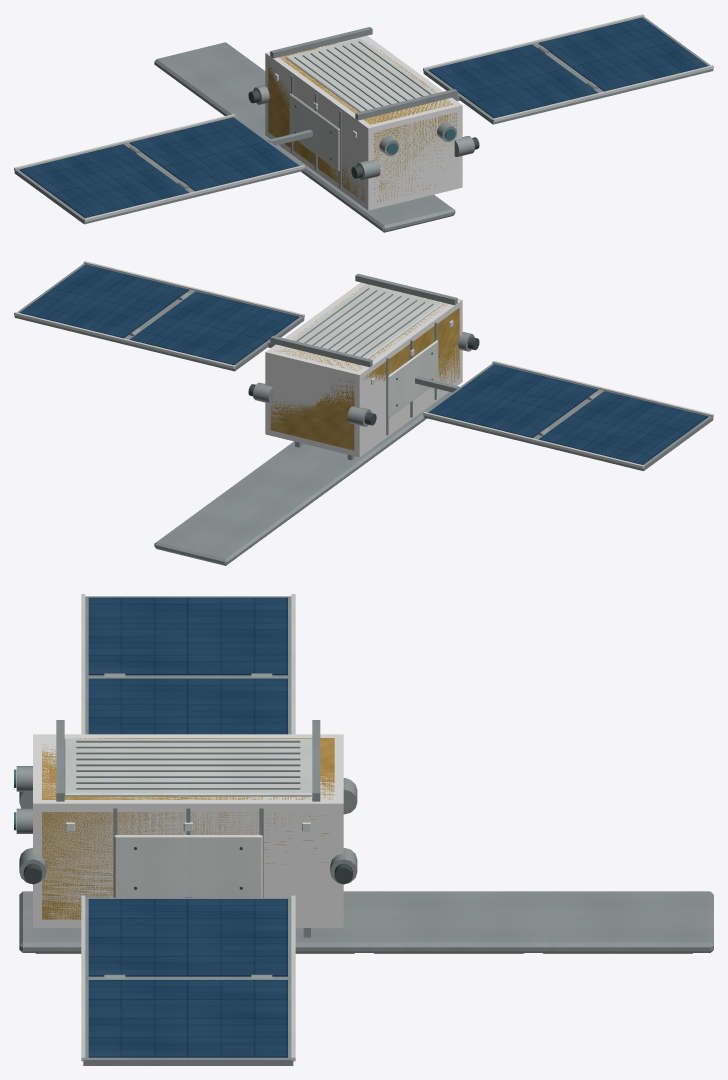
Rendered from SarSatellite.fbx.
3 views of the same model, one above another, from view 1: azimuth 30°, elevation 25°; view 2: azimuth 150°, elevation 25°; view 3: azimuth 270°, elevation 25° (orthographic). The views are drawn at different scales.
Visible parts, largest first — view 1: LOD0, COL_Static; view 2: LOD0, COL_Static; view 3: LOD0, COL_Static.
Boxes of the visible parts, <box> form: LOD0: <box>14,14,713,232</box>; COL_Static: <box>265,35,462,210</box>; LOD0: <box>14,261,713,565</box>; COL_Static: <box>265,282,462,457</box>; LOD0: <box>14,594,713,1065</box>; COL_Static: <box>33,734,343,927</box>.
Size of what is drawn, in the model's own units: 1200 by 210 by 766.
